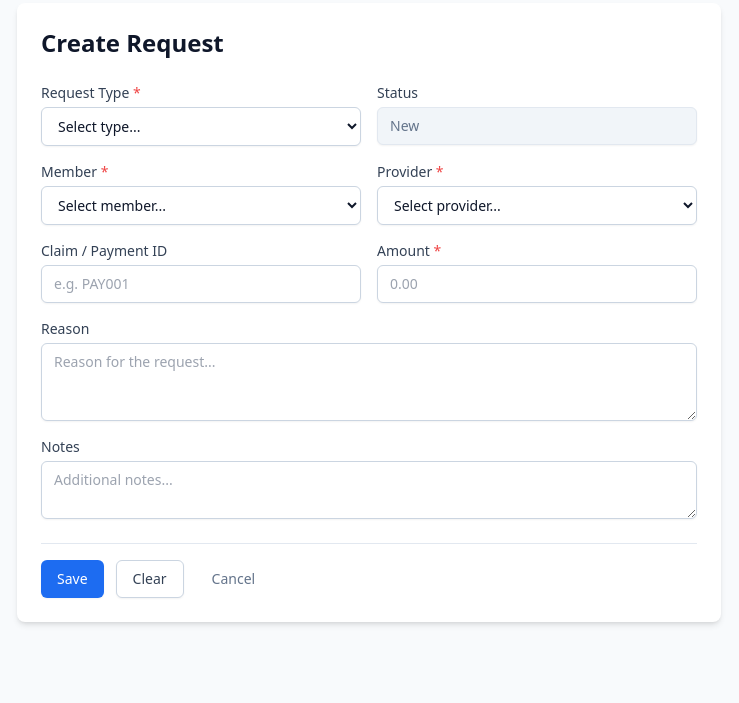
Test: RequestForm › validation errors on invalid submit › clears field error when user corrects the field
The image size is (739, 703).
Click the button "Save": (72, 579) [41,560,104,598]
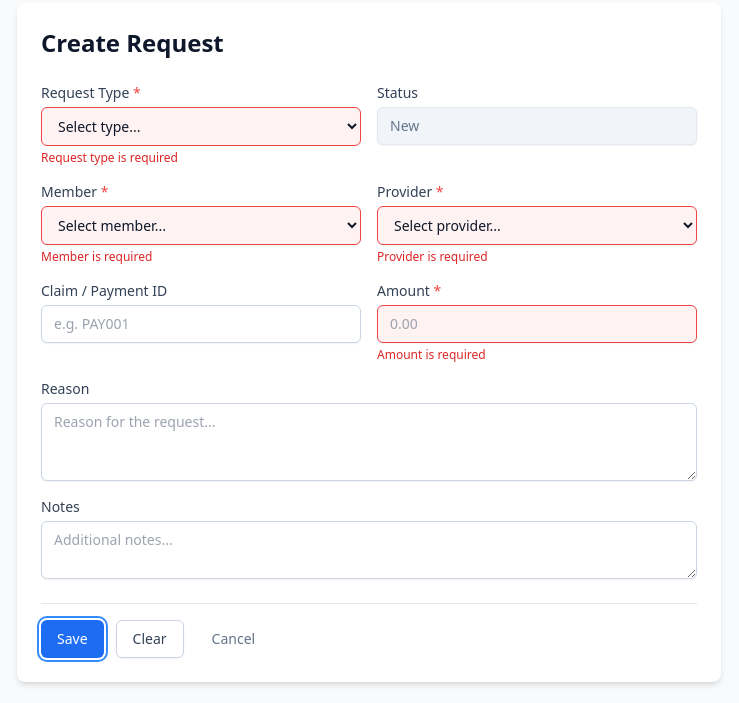
Expected: the text "Request type is required" is shown, [41,149,178,166]
Select "Refund" in the dropdown labelled "Request Type *": (201, 126) [41,107,361,146]
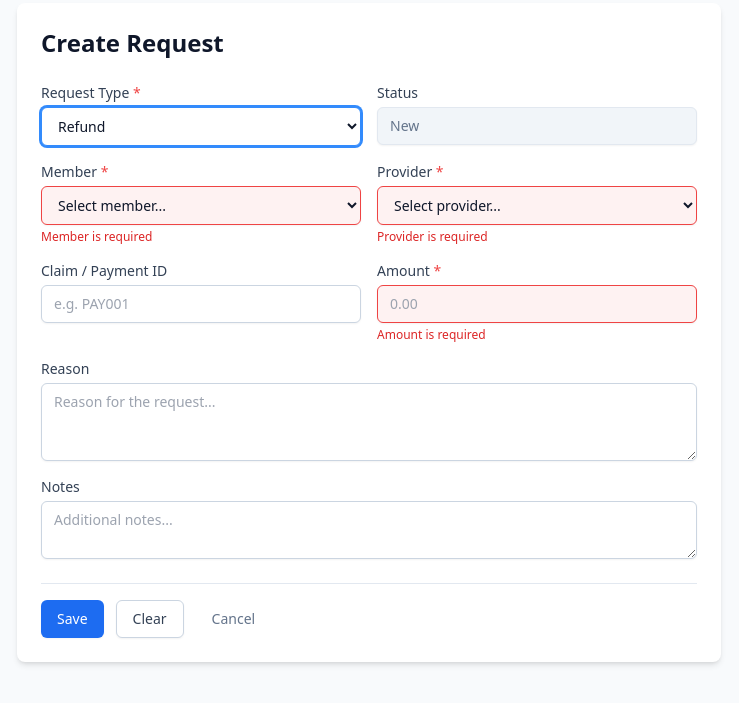
Expected: the text "Request type is required" is gone
